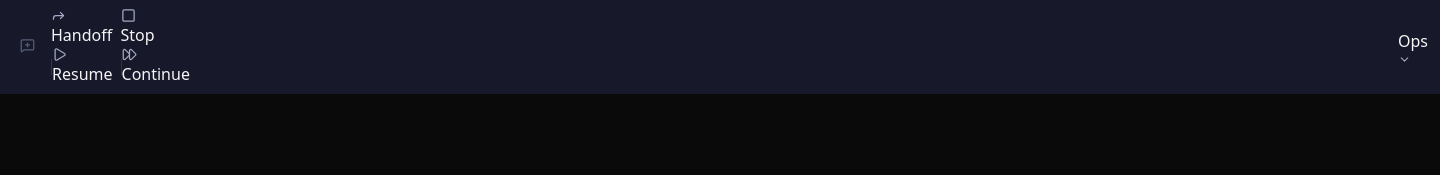
action groups › lists the grouped members in configured order with their titles
Click the button "Ops" at (1413, 47), box top-left (1398, 28), bottom-right (1428, 66)
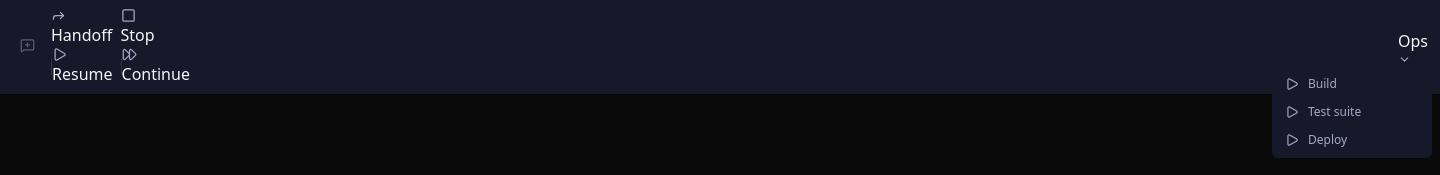
Expected: the menu items read "Build", "Test suite", "Deploy", in this order, top-left (1272, 70), bottom-right (1432, 98); top-left (1272, 98), bottom-right (1432, 126); top-left (1272, 126), bottom-right (1432, 154)
